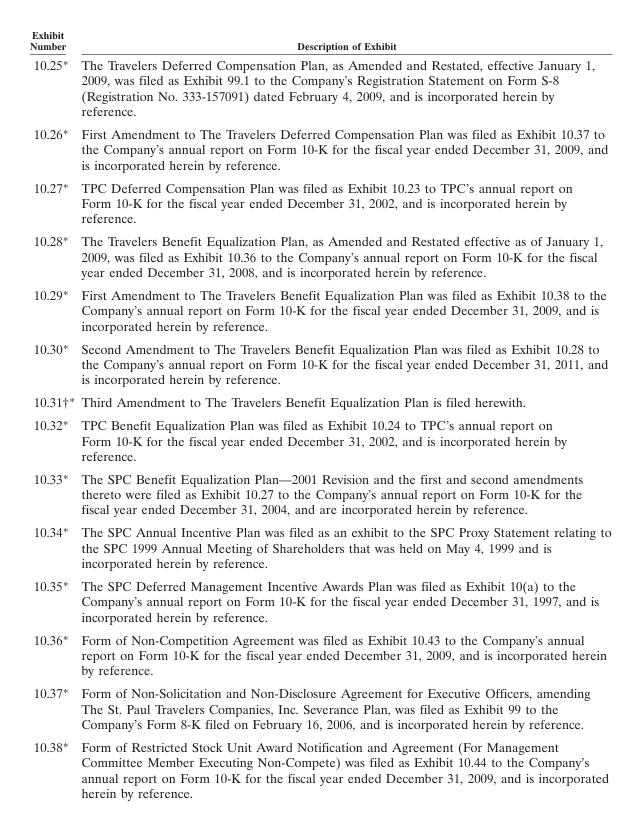table: (29, 28, 610, 800)
table column: (77, 28, 610, 800), (29, 28, 67, 800), (67, 28, 77, 800)
table column header: (29, 28, 610, 121)
table row: (29, 28, 610, 121), (29, 735, 610, 800), (29, 121, 610, 175), (29, 175, 610, 229), (29, 282, 610, 336), (29, 336, 610, 390), (29, 466, 610, 520), (29, 520, 610, 574), (29, 627, 610, 681), (29, 681, 610, 735), (29, 229, 610, 282), (29, 413, 610, 466), (29, 574, 610, 627), (29, 390, 610, 413)
